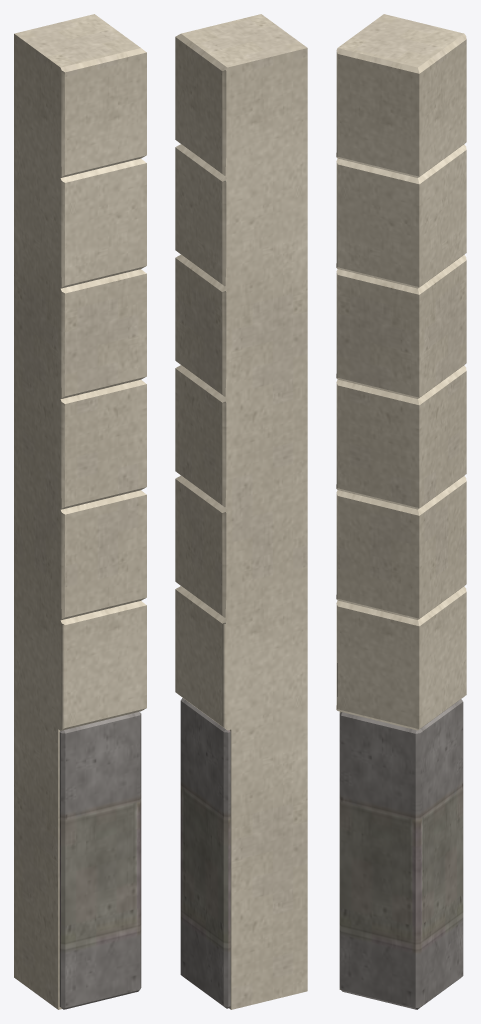
The model's file is corner_ground.glb.
The picture shows the model from 3 angles, left to right: view 1: azimuth 30°, elevation 25°; view 2: azimuth 210°, elevation 25°; view 3: azimuth 330°, elevation 25°; orthographic projection.
Visible parts, largest first — view 1: corner_ground_rust, corner_ground_plinth; view 2: corner_ground_rust, corner_ground_plinth; view 3: corner_ground_rust, corner_ground_plinth.
Boxes of the visible parts, box(x1,y1,x2,y2) form: corner_ground_rust: box(14, 14, 146, 1009); corner_ground_plinth: box(59, 712, 141, 1009); corner_ground_rust: box(175, 14, 307, 1009); corner_ground_plinth: box(180, 698, 230, 1008); corner_ground_rust: box(336, 14, 466, 989); corner_ground_plinth: box(339, 699, 463, 1009).
Size of the model in its own units: 0.345 by 3.7 by 0.345.
Materials: 2 (2 with a texture image).
